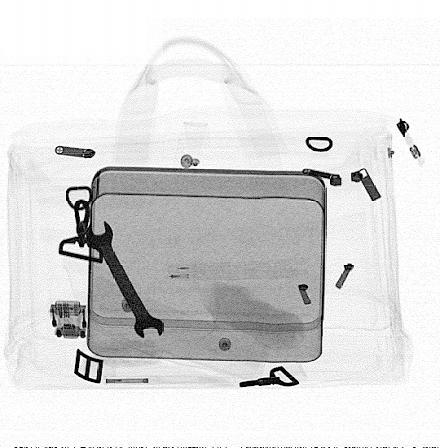Wrench: (86, 220, 166, 340)
